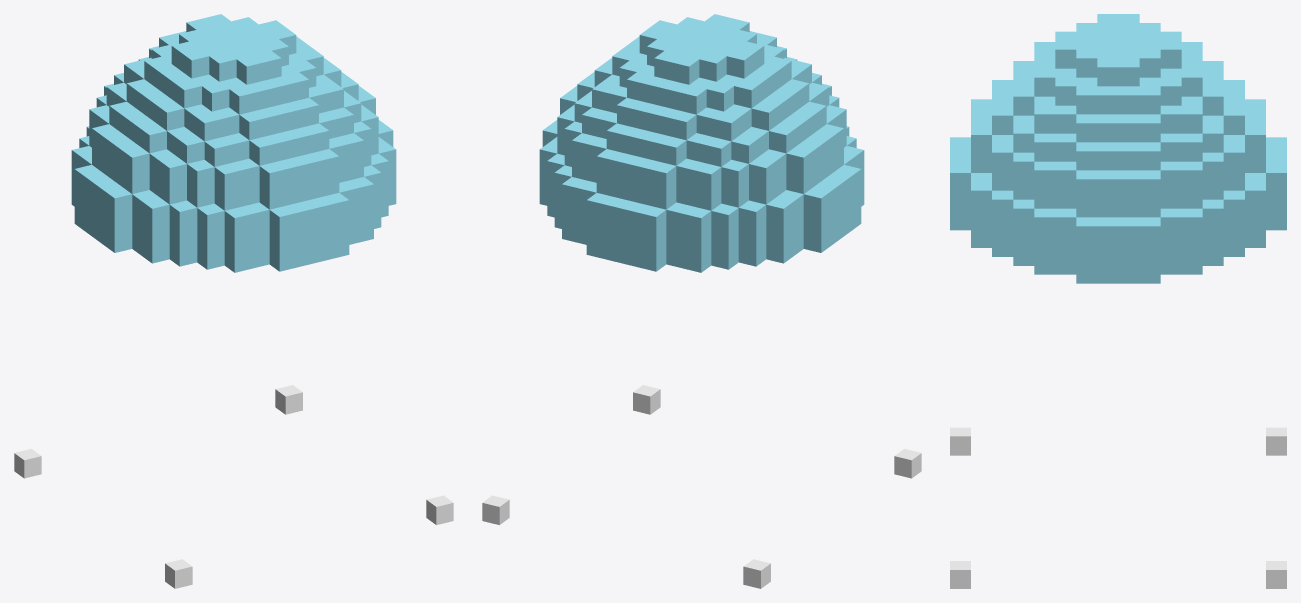
The model's file is farm_dome_transparent.gltf.
3 views of the same model, side by side, from view 1: azimuth 30°, elevation 25°; view 2: azimuth 150°, elevation 25°; view 3: azimuth 270°, elevation 25° (orthographic). The views are drawn at different scales.
Parts seen in each view (by area): view 1: Content-Mesh; view 2: Content-Mesh; view 3: Content-Mesh.
Part boxes in pixels (x1,y1,x2,y2): Content-Mesh: (14,14,453,588); Content-Mesh: (482,14,921,588); Content-Mesh: (950,14,1286,588).
Size of the model in its own units: 16 by 25 by 16.
Materials: 1 (1 with a texture image).
